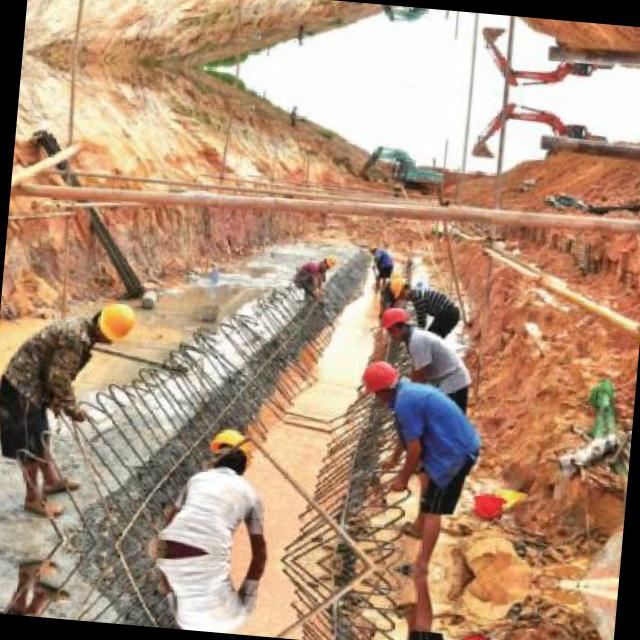helmet: (202, 422, 258, 482), (91, 298, 142, 339), (356, 358, 400, 404), (376, 302, 412, 342), (387, 274, 413, 300), (312, 252, 338, 274)
